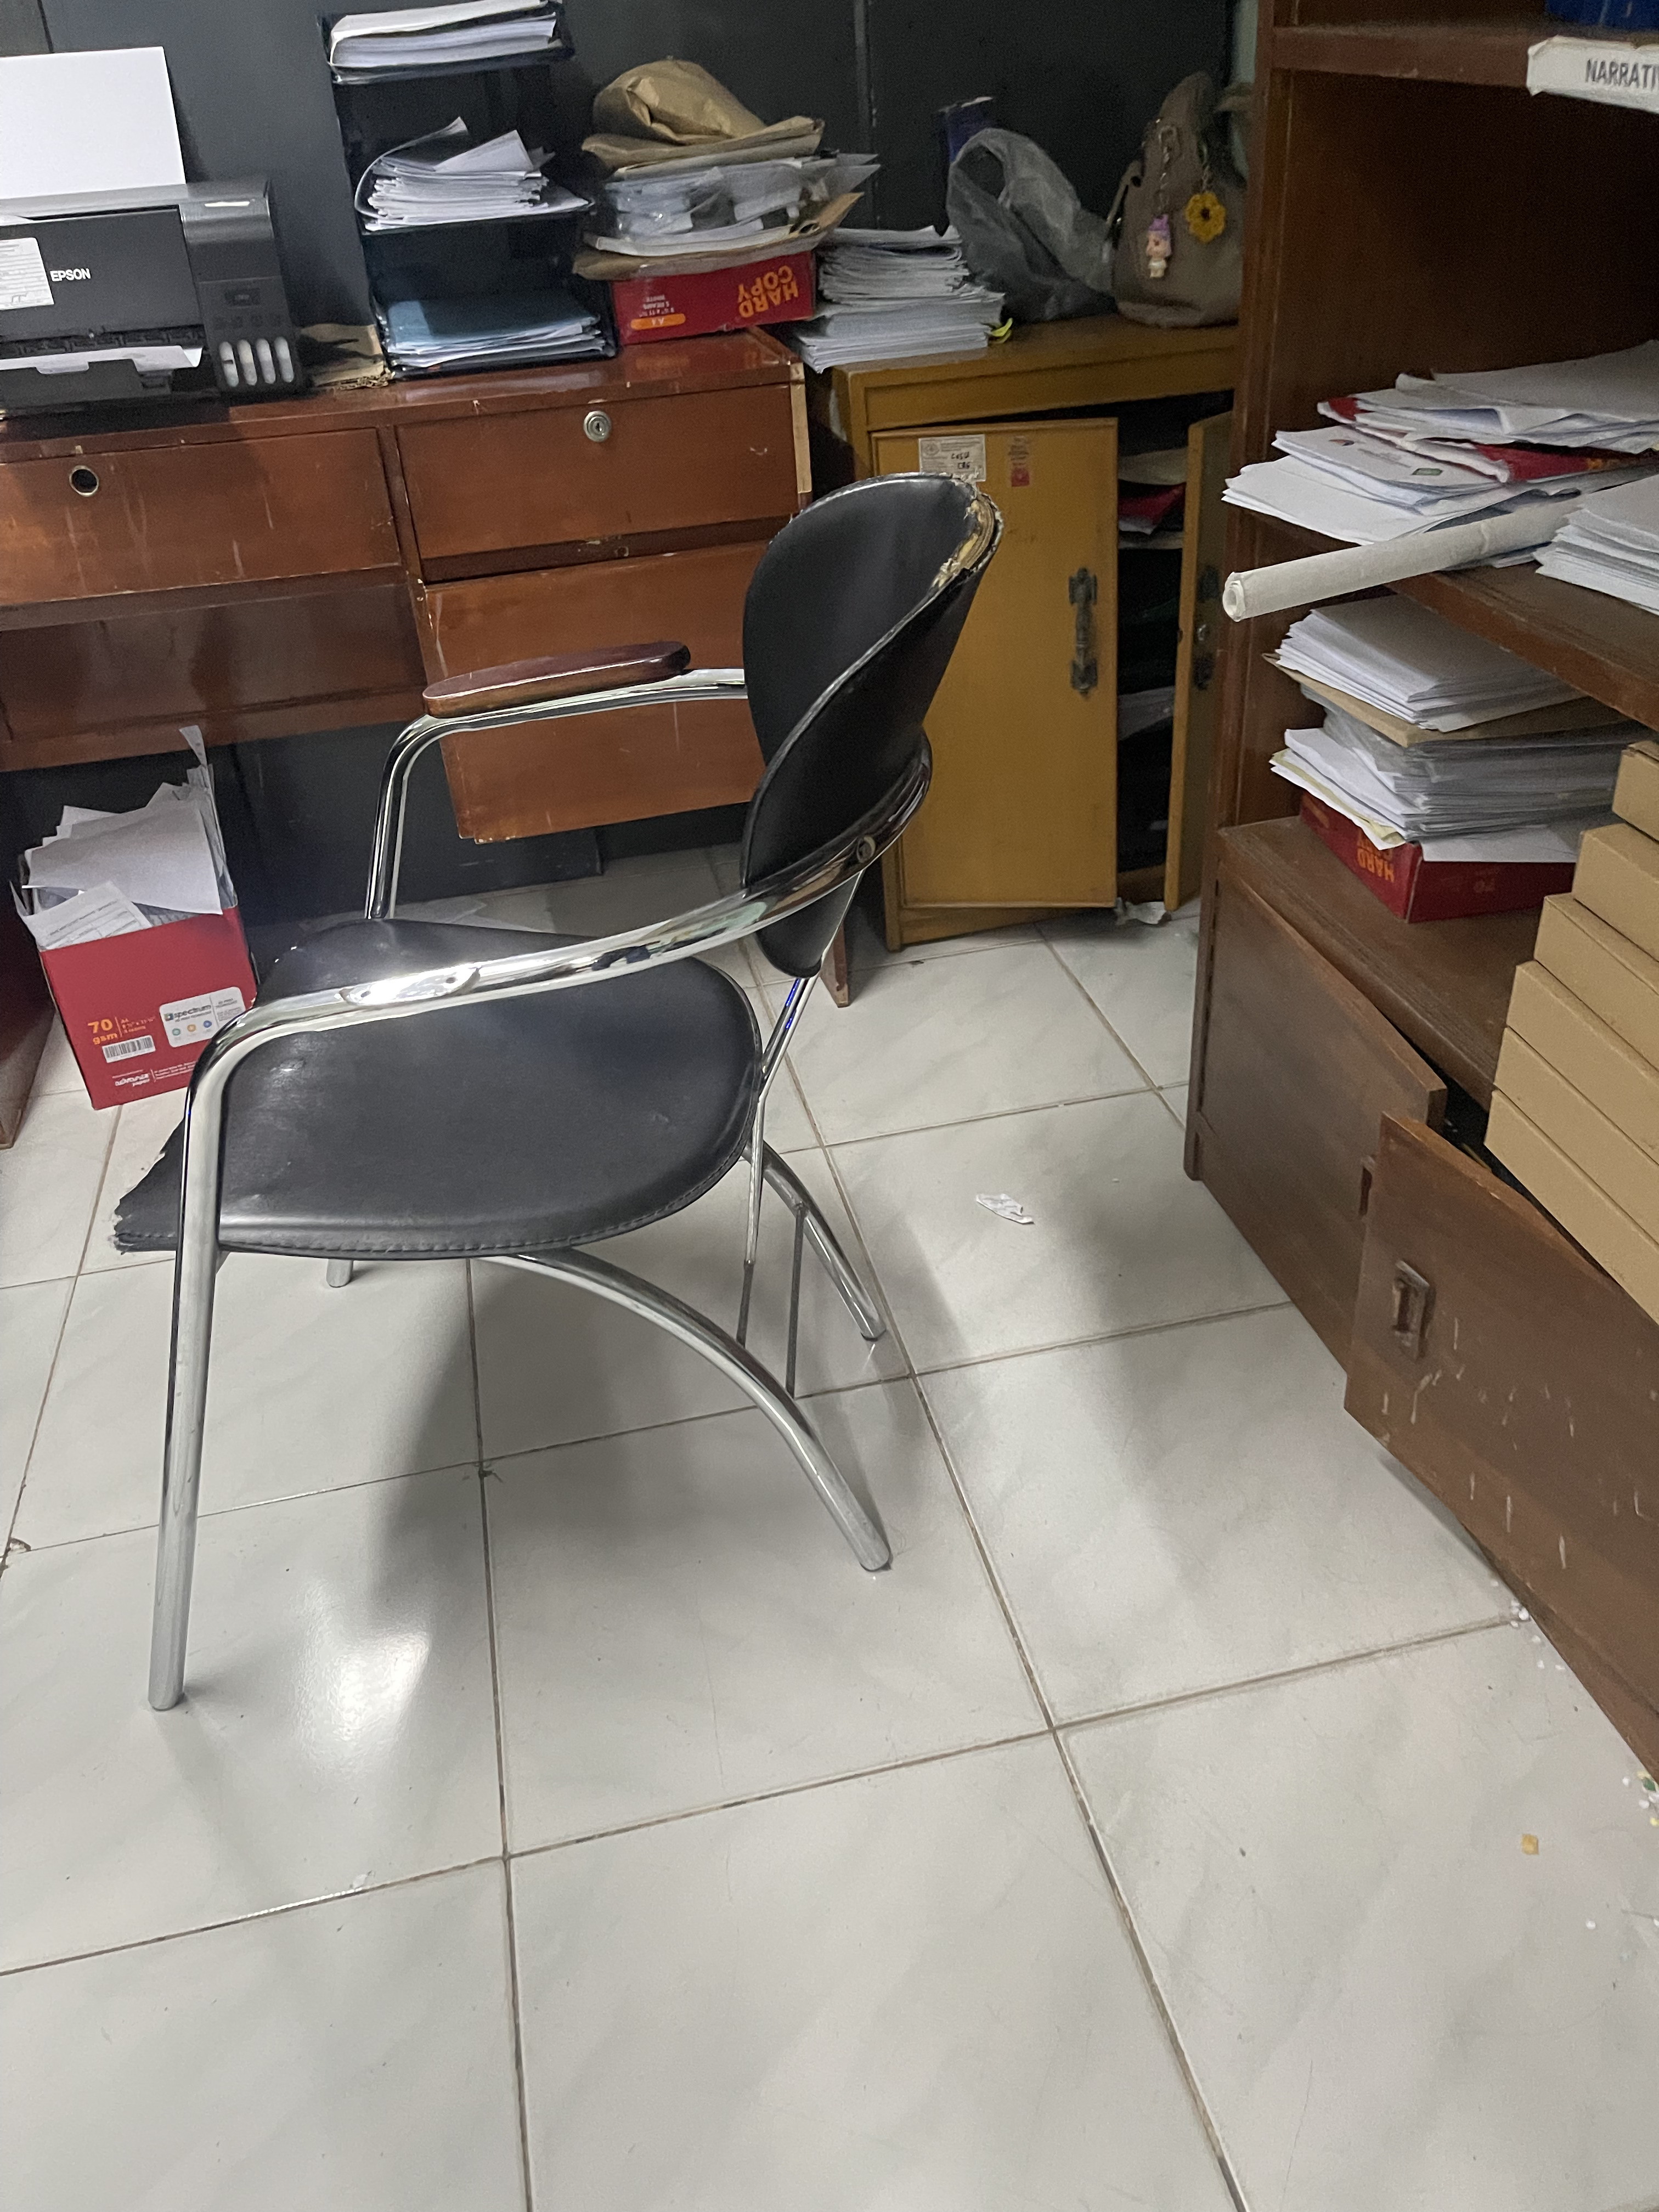chair1: (115, 472, 1004, 1719)
